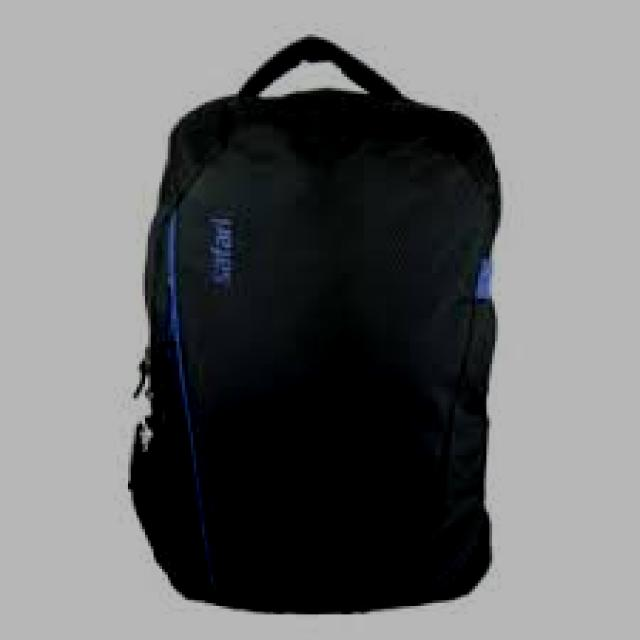backpack: (126, 33, 502, 616)
